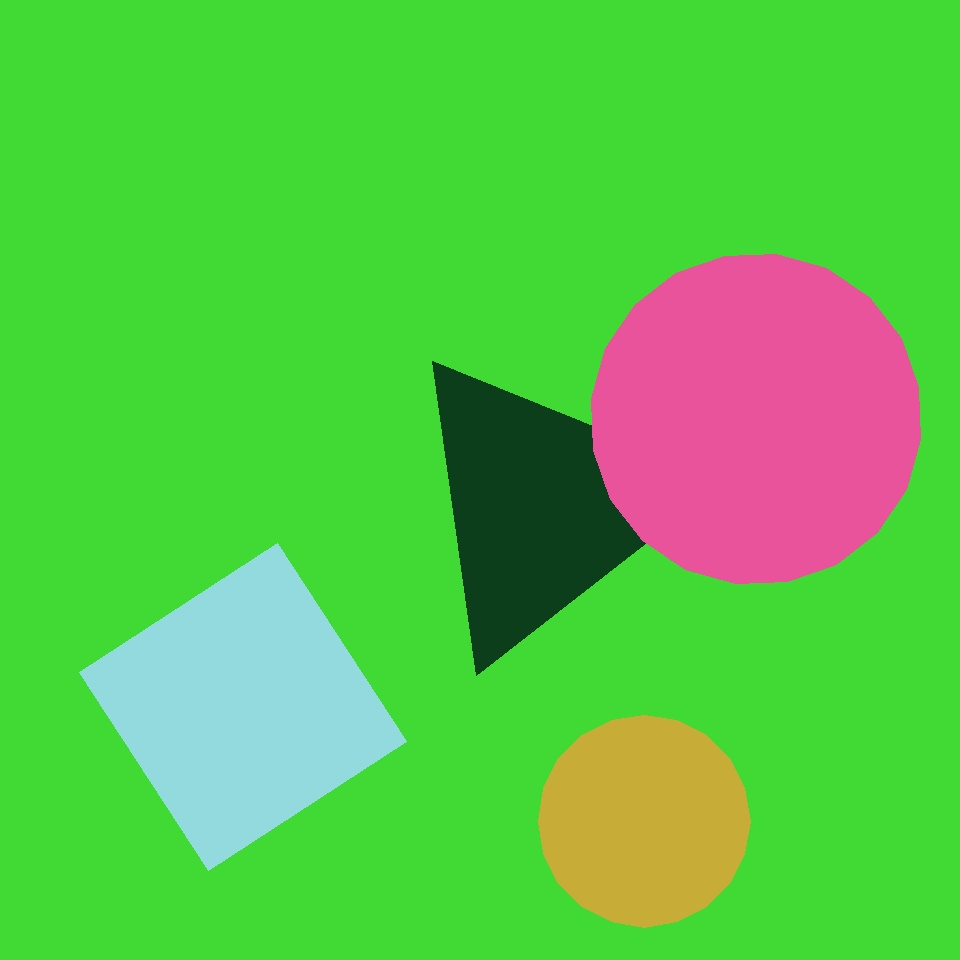circle: (398, 349, 692, 663), (327, 543, 548, 758)
square: (79, 544, 406, 870), (210, 105, 446, 341)
triangle: (592, 255, 920, 584), (224, 450, 491, 717), (538, 715, 750, 927)
